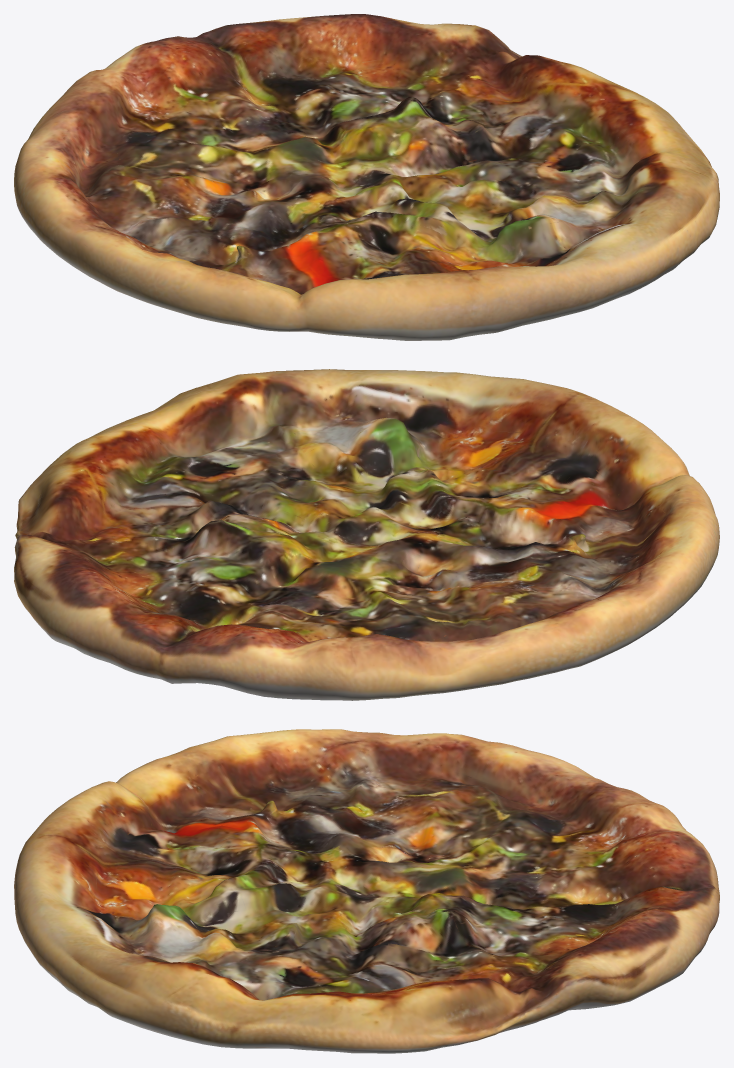
Rendered from Vegetable_Delight_Piz_0317120427_texture.obj.
The picture shows the model from 3 angles, top to bottom: view 1: azimuth 30°, elevation 25°; view 2: azimuth 150°, elevation 25°; view 3: azimuth 270°, elevation 25°; orthographic projection. The views are drawn at different scales.
Parts seen in each view (by area): view 1: Vegetable_Delight_Piz_0317120427_texture; view 2: Vegetable_Delight_Piz_0317120427_texture; view 3: Vegetable_Delight_Piz_0317120427_texture.
Boxes of the visible parts, x1,y1,x2,y2 form: Vegetable_Delight_Piz_0317120427_texture: [14, 14, 719, 340]; Vegetable_Delight_Piz_0317120427_texture: [14, 369, 719, 700]; Vegetable_Delight_Piz_0317120427_texture: [14, 729, 719, 1053].
Size of the model in its own units: 1.94 by 0.2166 by 2.
Materials: 1 (1 with a texture image).
